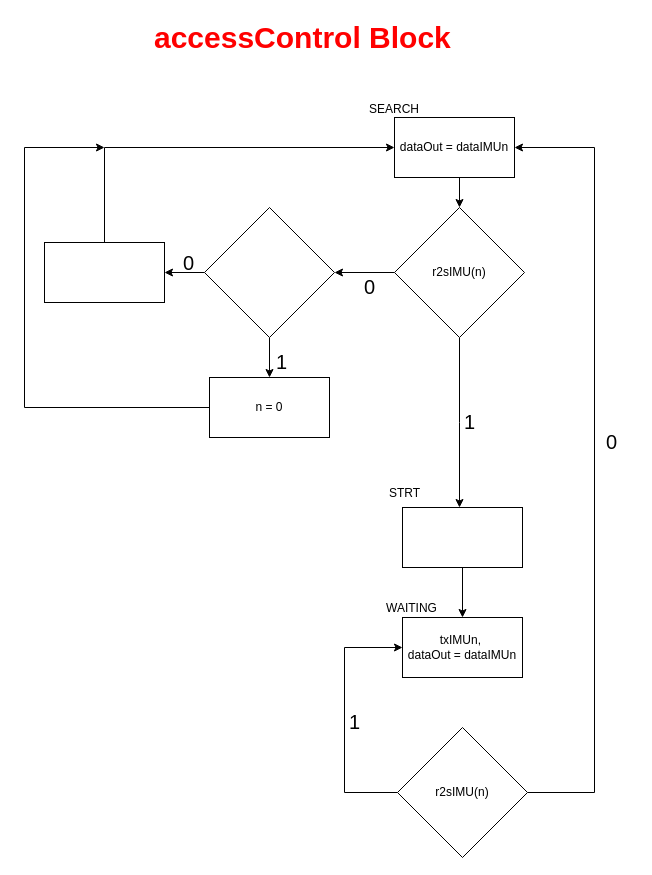
Some shapes in this 652 by 875 pixel diagram are drawn without their labels. Each missing label, with the box of its shape:
n = 5?: (204, 206, 334, 338)
n = n + 1: (44, 242, 164, 302)
txIMUn, strtTxn dataOut = dataIMUn: (402, 506, 522, 568)
